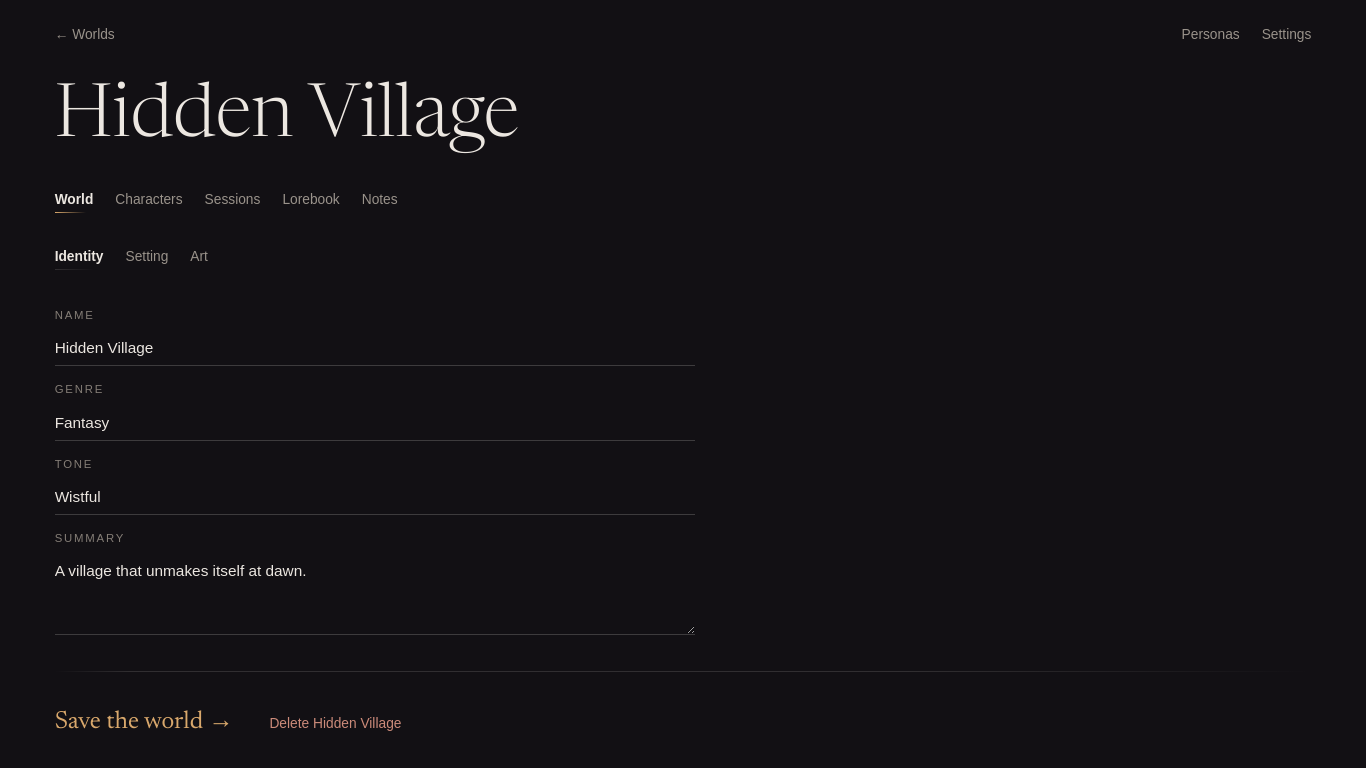
Scenario: world details › spells out what a deletion takes with it
Click the button "Delete Hidden Village". click: (335,724)
box: [269, 715, 401, 732]
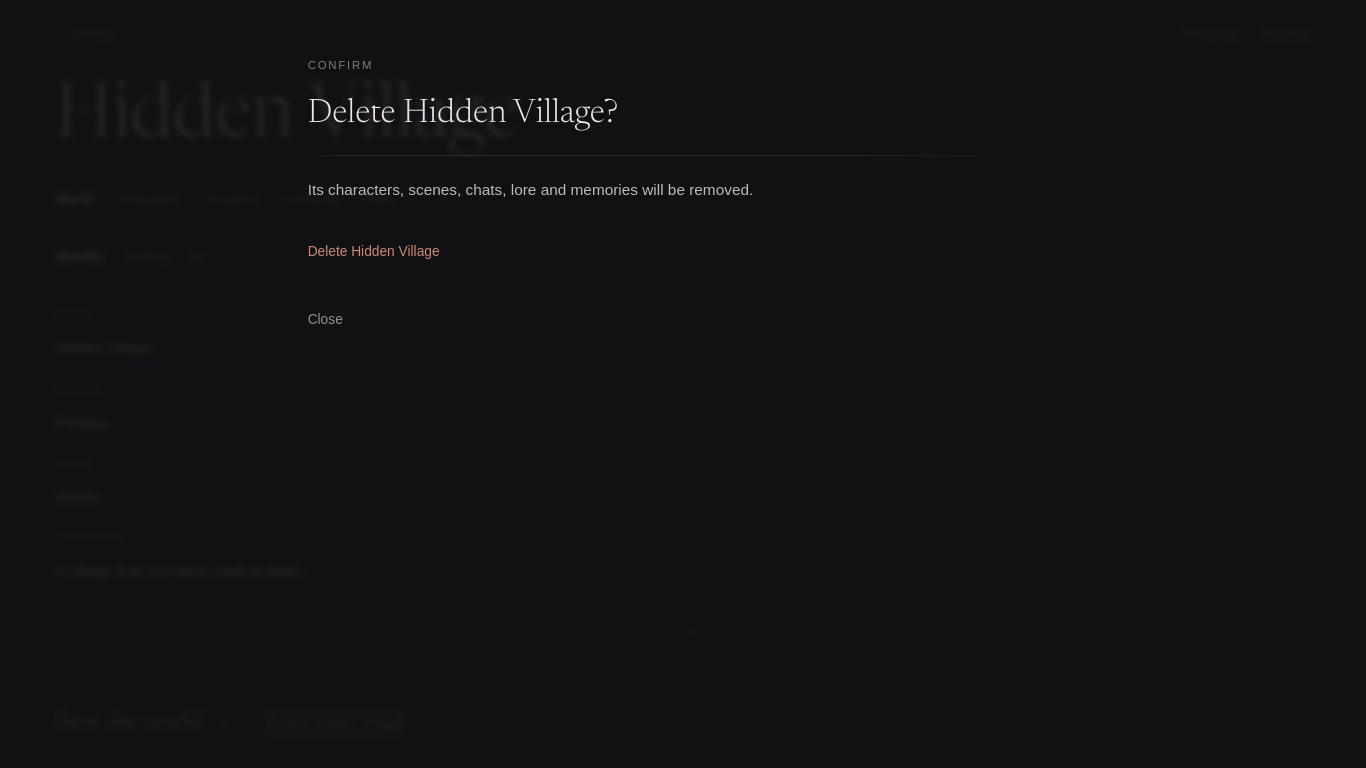
Expected: the text "Its characters, scenes, chats, lore and memories will be removed." is shown, [308, 181, 753, 198]
